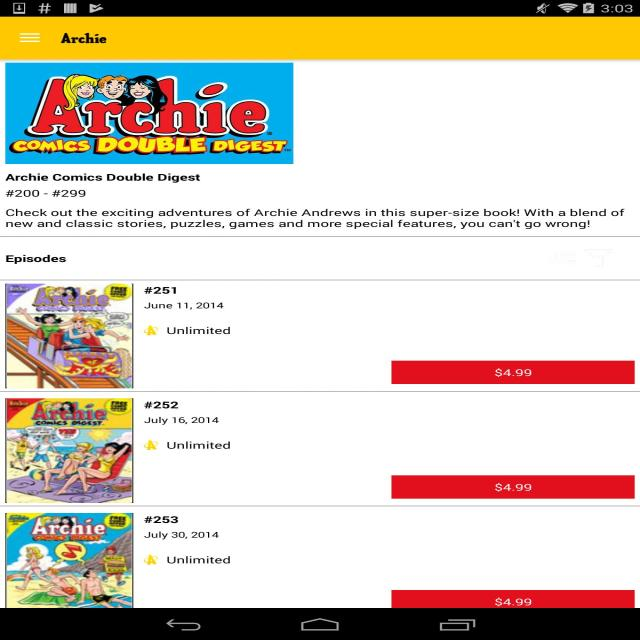button: (392, 474, 634, 498), (391, 361, 634, 384), (392, 590, 634, 609), (16, 30, 45, 46)
heading: (4, 172, 202, 185), (54, 30, 110, 48), (3, 253, 70, 266)
image: (6, 63, 294, 165), (5, 284, 133, 388), (6, 398, 132, 503), (5, 513, 134, 607)
text: (6, 187, 628, 232), (140, 398, 233, 453), (143, 513, 236, 566), (143, 285, 235, 337)
